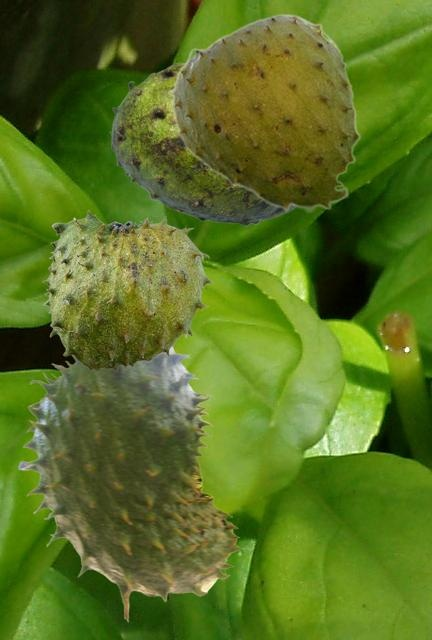guyabano: (18, 347, 240, 621), (168, 13, 360, 213), (109, 62, 294, 225), (42, 209, 212, 371)
